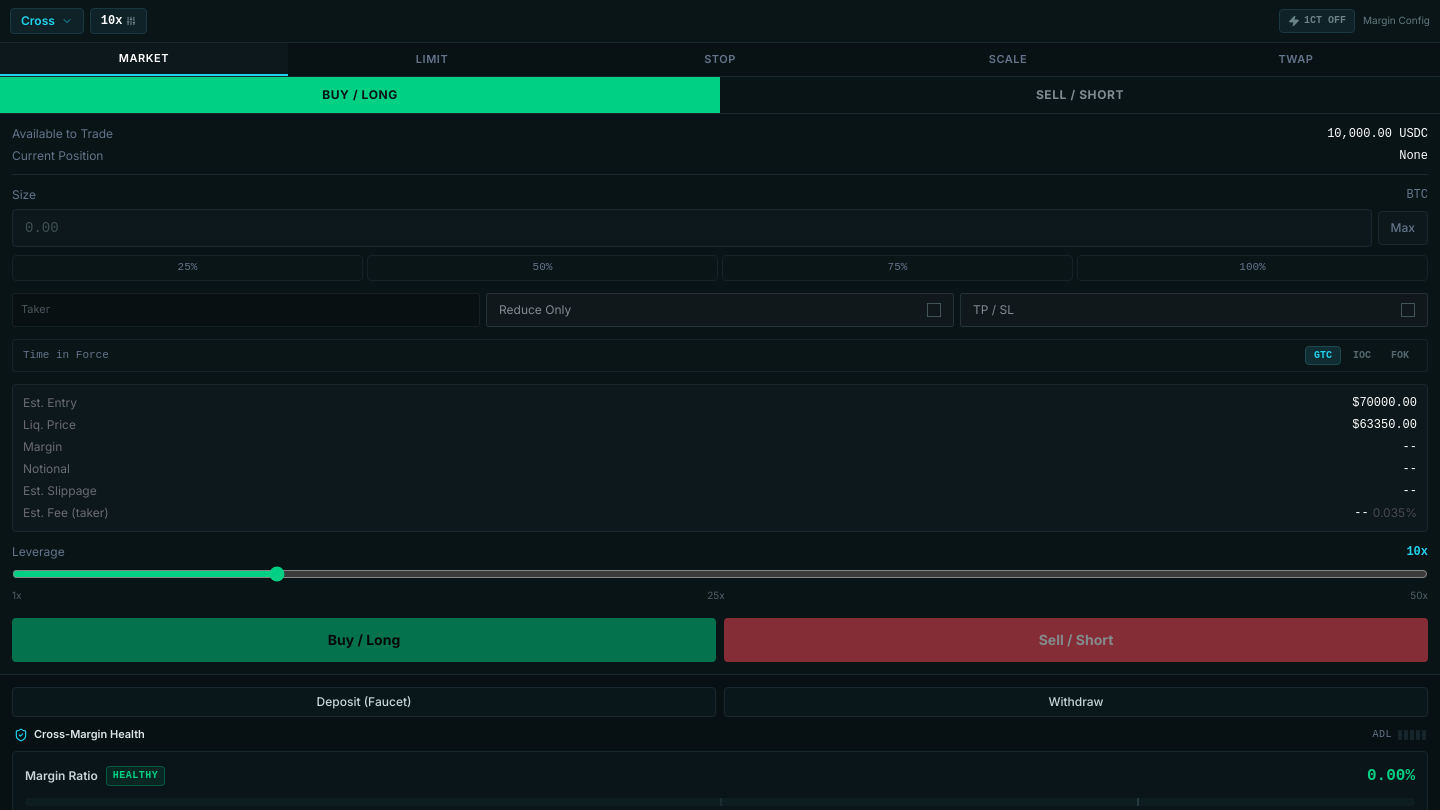
Test: 1-Click Trading (1CT Mode) › opens confirmation dialog when 1CT is OFF and Buy is clicked
The image size is (1440, 810).
// Fill size
Type "0.1" into the number field with placeholder "0.00".
click(692, 228); type("0.1")  # box [12, 209, 1372, 247]
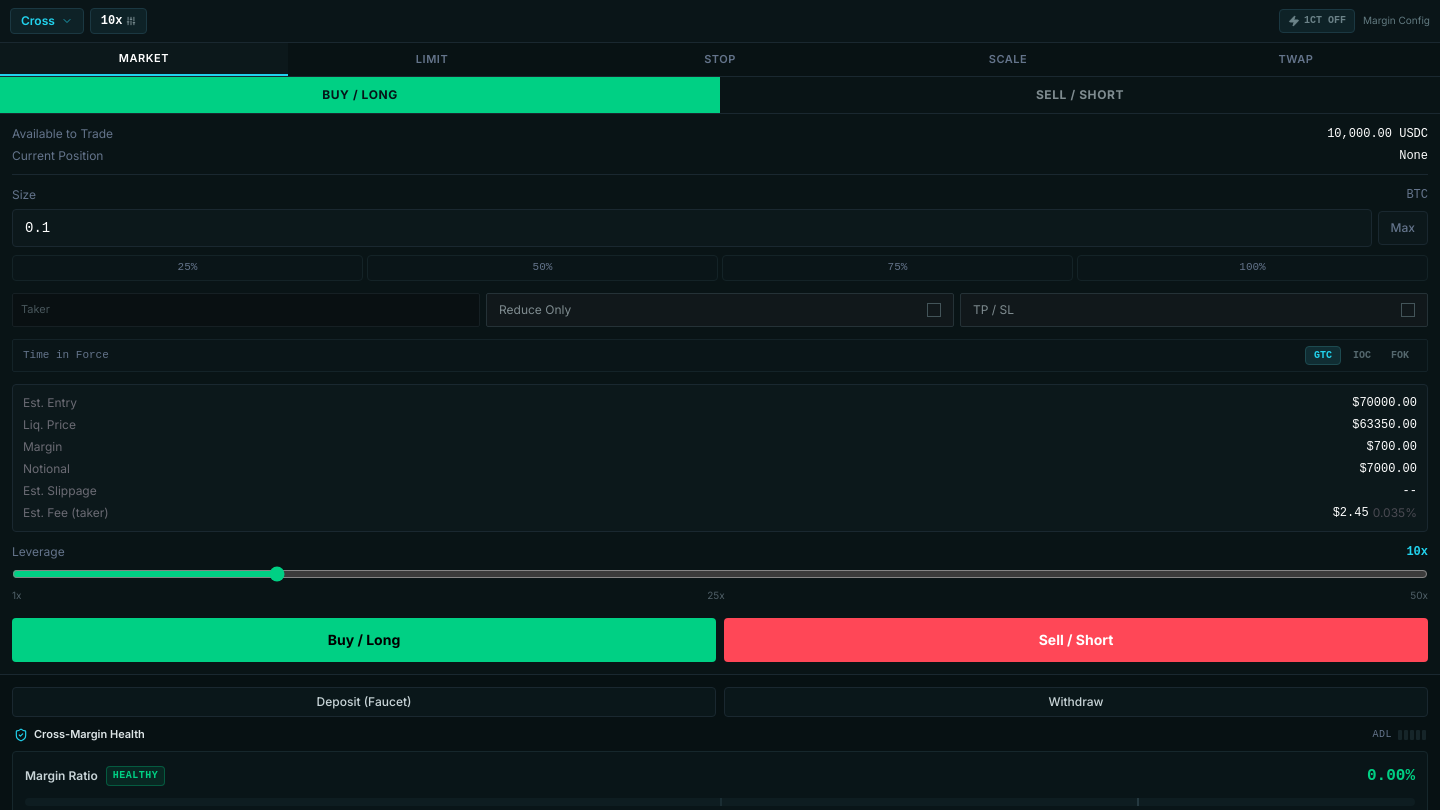
// Click Buy / Long submit CTA
Click the button with test id "buy-submit-btn".
click(364, 640)  # box [12, 618, 716, 662]
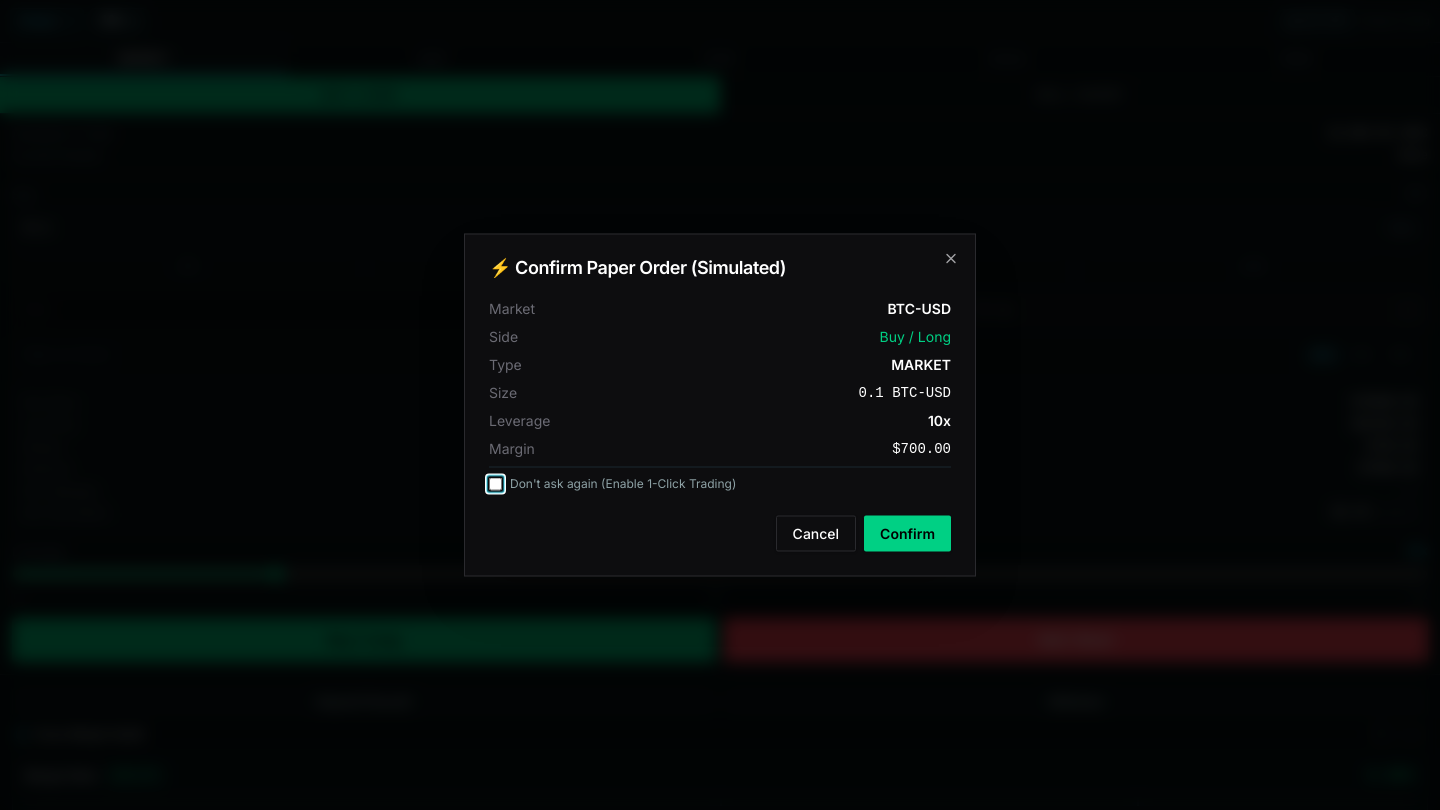
Result: the heading "⚡ Confirm Paper Order (Simulated)" is shown at [489, 256, 786, 278]
